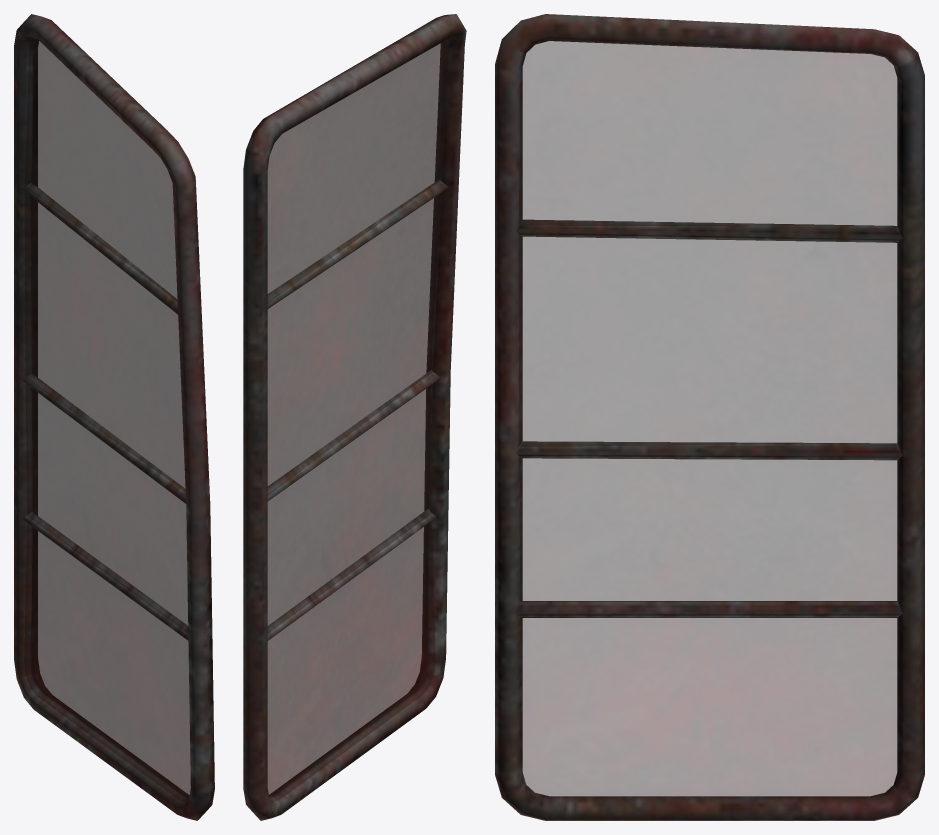
Rendered from TR_Door_02.FBX.
The picture shows the model from 3 angles, left to right: view 1: azimuth 30°, elevation 25°; view 2: azimuth 150°, elevation 25°; view 3: azimuth 270°, elevation 25°; orthographic projection. The views are drawn at different scales.
Visible parts, largest first — view 1: TR_Door_02; view 2: TR_Door_02; view 3: TR_Door_02.
Part boxes in pixels (x1,y1,x2,y2): TR_Door_02: (14,14,214,820); TR_Door_02: (243,14,466,820); TR_Door_02: (495,14,924,820).
Bounding box in the file's own units: 14.53 × 213 × 105.
